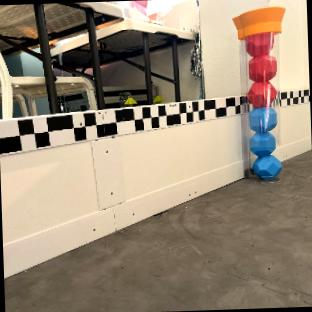Loader: (233, 7, 284, 178)
V5_BLUE: (249, 107, 281, 178)
V5_RED: (246, 32, 276, 106), (248, 75, 277, 107)
